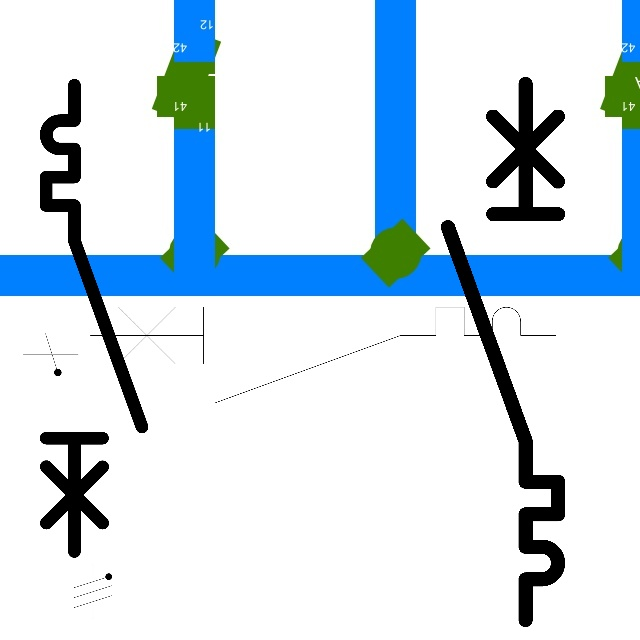interruptor_termomagnetico: (434, 70, 572, 634), (34, 73, 154, 564), (78, 295, 568, 415)
